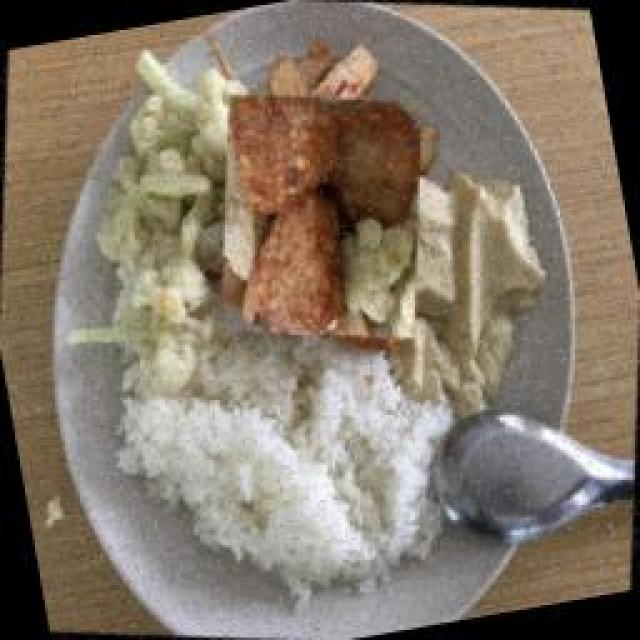rice: (102, 288, 470, 633)
triangle_hash_brown: (183, 60, 466, 370)
